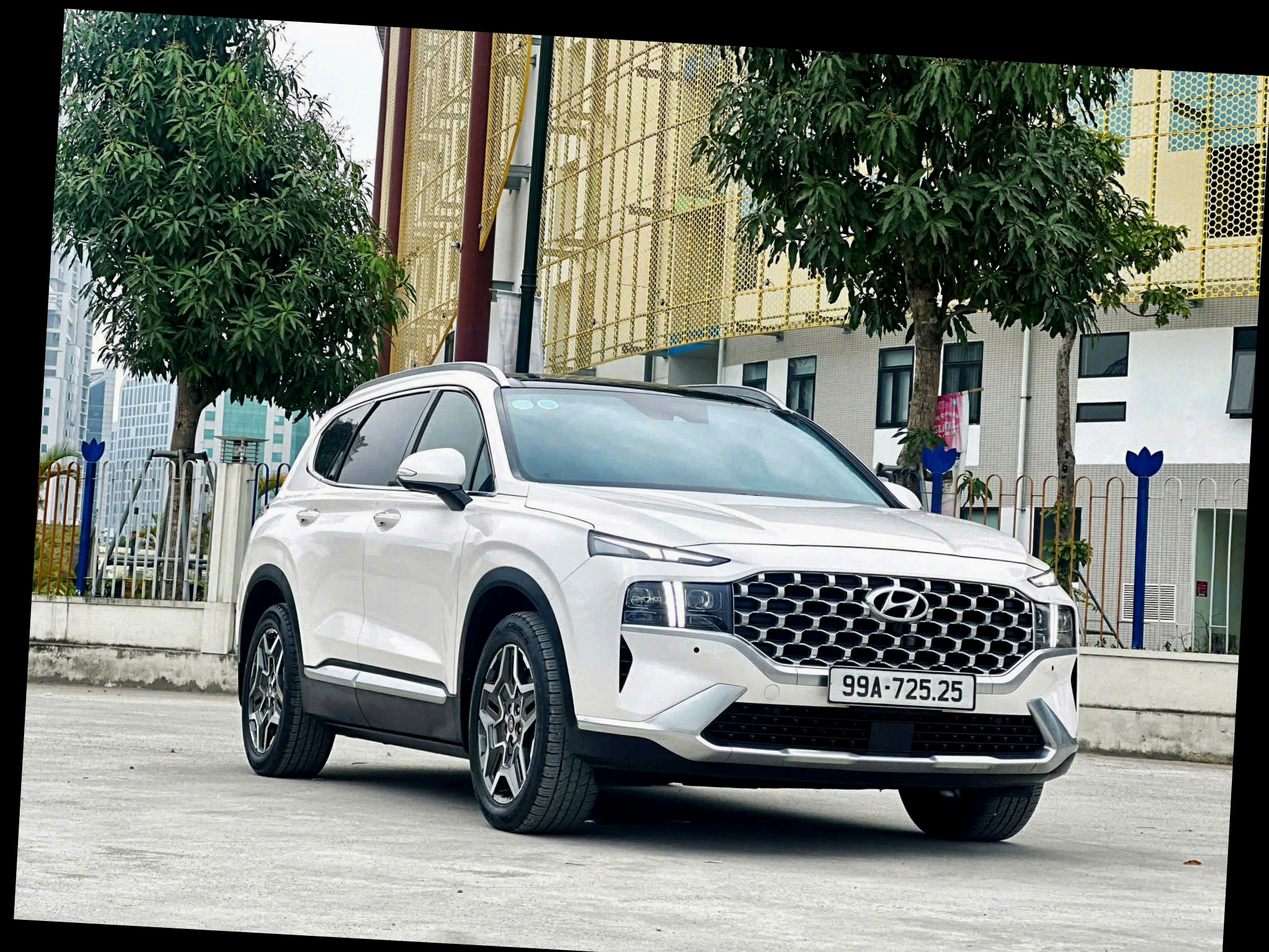Bien-so: (833, 669, 981, 709)
